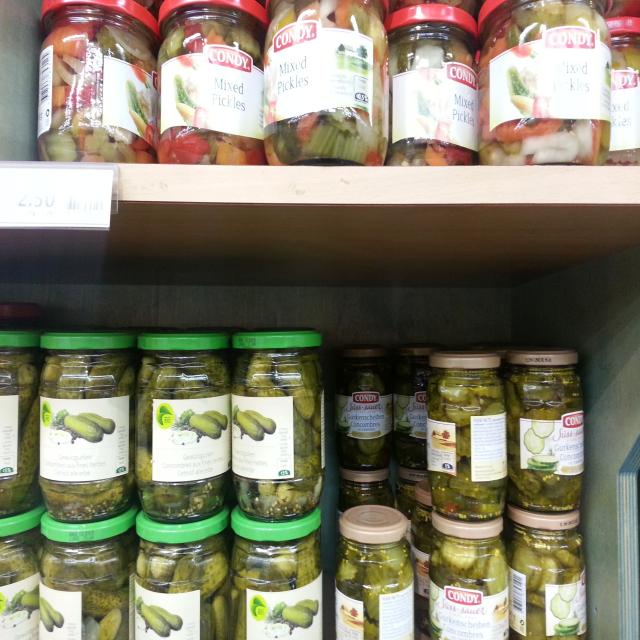Canned: (478, 0, 610, 163), (265, 0, 390, 166), (151, 0, 265, 168), (39, 0, 158, 158), (133, 330, 232, 518), (227, 327, 326, 511), (38, 330, 132, 523), (382, 0, 482, 164), (427, 346, 505, 522), (134, 502, 230, 640), (42, 509, 140, 640), (233, 505, 325, 640), (509, 350, 585, 508), (329, 506, 417, 640), (429, 500, 513, 640), (508, 500, 590, 640), (338, 346, 394, 468), (0, 332, 37, 510), (0, 511, 41, 640)
